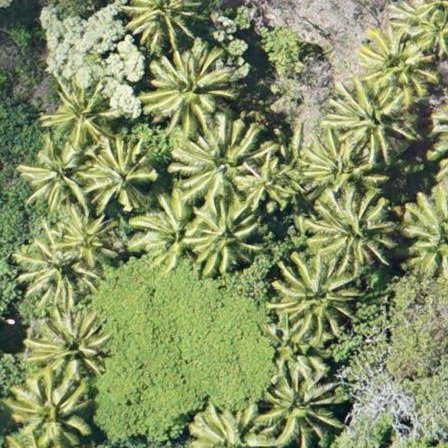palm_tree: (270, 249, 355, 340), (251, 357, 341, 441), (151, 42, 232, 128), (310, 179, 390, 265), (185, 193, 265, 278), (330, 76, 405, 155), (181, 127, 263, 199), (19, 232, 95, 309), (13, 374, 91, 448), (352, 32, 429, 105), (137, 193, 199, 269), (31, 315, 106, 377), (90, 143, 158, 210), (299, 132, 369, 197), (25, 141, 85, 206), (51, 83, 113, 143), (127, 1, 199, 47), (237, 159, 293, 212)
